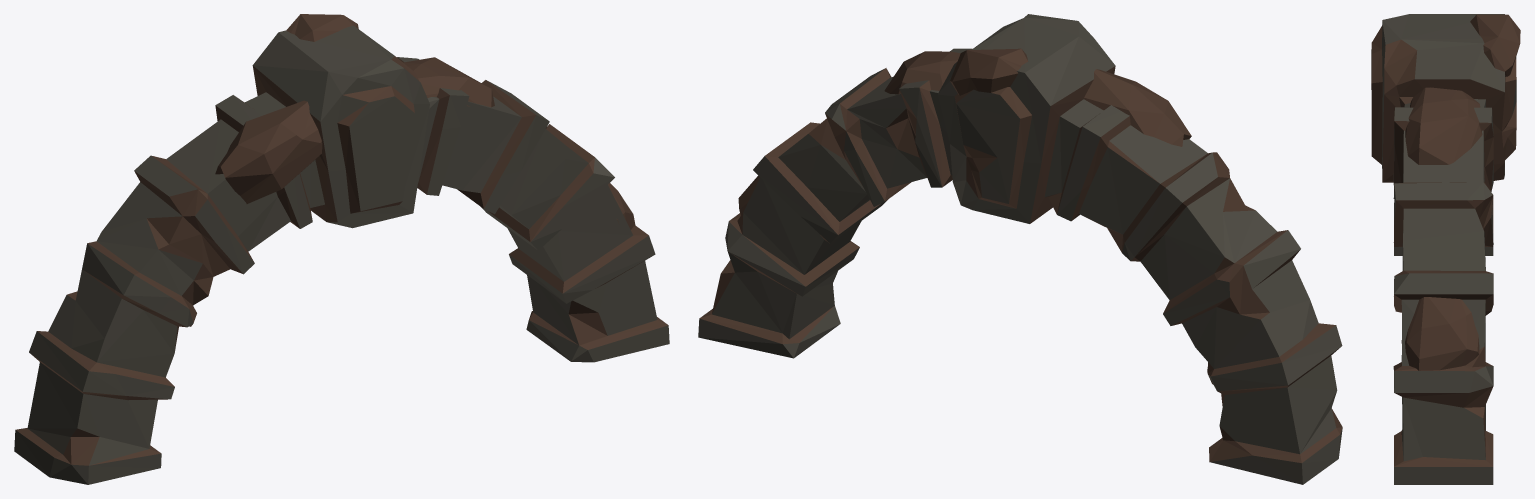
3 views of the same model, side by side, from view 1: azimuth 30°, elevation 25°; view 2: azimuth 150°, elevation 25°; view 3: azimuth 270°, elevation 25° (orthographic). The views are drawn at different scales.
Visible parts, largest first — view 1: SM_Prop_Pillar_Arch_Moss_01; view 2: SM_Prop_Pillar_Arch_Moss_01; view 3: SM_Prop_Pillar_Arch_Moss_01.
Boxes of the visible parts, x1,y1,x2,y2 form: SM_Prop_Pillar_Arch_Moss_01: [14, 14, 669, 484]; SM_Prop_Pillar_Arch_Moss_01: [698, 14, 1342, 484]; SM_Prop_Pillar_Arch_Moss_01: [1371, 14, 1520, 484].
Size of the model in its own units: 2.57 by 1.47 by 0.5973.
1 material, 1 textured.
